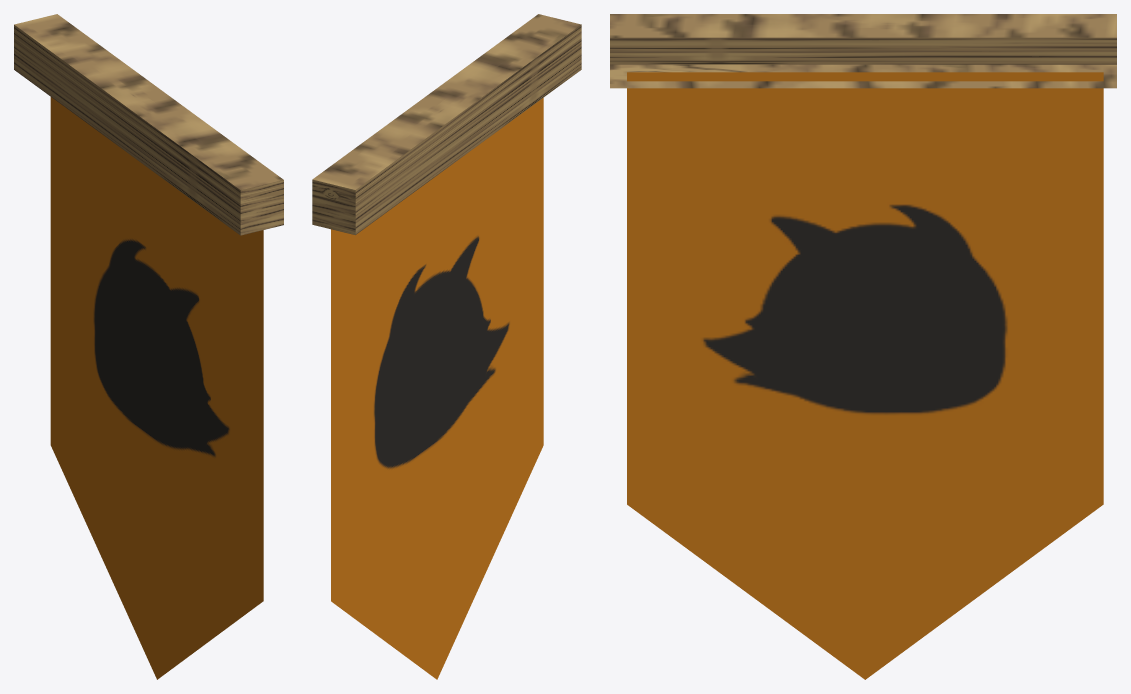
The model's file is tunoFlag.fbx.
3 views of the same model, side by side, from view 1: azimuth 30°, elevation 25°; view 2: azimuth 150°, elevation 25°; view 3: azimuth 270°, elevation 25° (orthographic). The views are drawn at different scales.
Visible parts, largest first — view 1: pPlane16, pCube80; view 2: pPlane16, pCube80; view 3: pPlane16, pCube80.
Boxes of the visible parts, left/top/right/bottom form: pPlane16: left=50, top=97, right=263, bottom=679; pCube80: left=14, top=14, right=283, bottom=235; pPlane16: left=331, top=98, right=543, bottom=679; pCube80: left=312, top=14, right=581, bottom=235; pPlane16: left=627, top=72, right=1103, bottom=679; pCube80: left=610, top=14, right=1116, bottom=88.
Bounding box in the file's own units: 0.0883 × 1.13 × 0.801.
